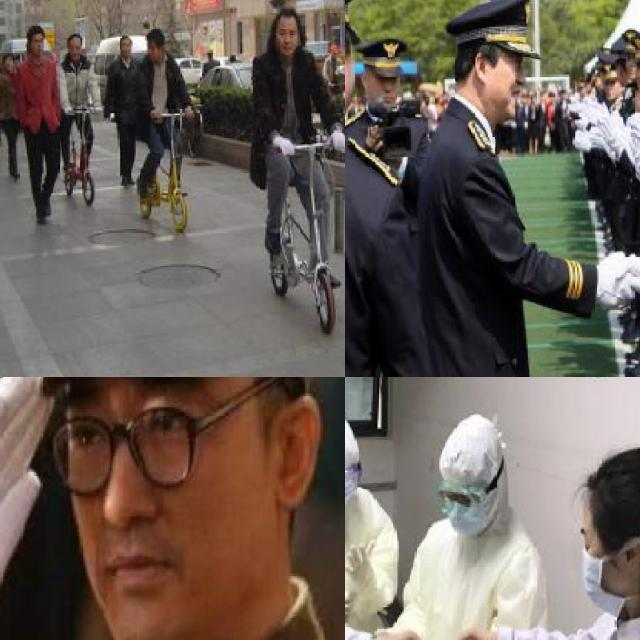No_Ear-Protection: (273, 378, 328, 518), (473, 51, 488, 84)
face_mask: (546, 493, 640, 627)
face_nomask: (58, 377, 271, 640), (476, 51, 534, 120), (368, 68, 398, 107), (274, 23, 300, 58), (144, 40, 166, 60), (29, 35, 46, 60), (67, 41, 85, 58), (119, 38, 133, 58)
glasses: (49, 401, 203, 501), (433, 483, 484, 521), (345, 461, 363, 499)
hand_glove: (0, 377, 62, 637), (594, 248, 640, 306), (345, 538, 379, 584), (599, 113, 626, 150), (623, 125, 640, 171), (586, 100, 611, 120), (573, 130, 600, 148), (272, 134, 294, 154), (328, 128, 345, 153), (345, 589, 357, 623), (631, 108, 640, 152), (574, 101, 588, 128), (92, 103, 104, 115), (64, 104, 74, 115)
hand_noglove: (452, 622, 497, 640), (366, 122, 384, 152), (373, 629, 422, 640), (146, 106, 160, 121), (180, 106, 196, 118), (327, 80, 331, 86)
head_nohelmet: (571, 447, 640, 550), (447, 0, 538, 56), (267, 4, 302, 24), (142, 27, 167, 46), (24, 24, 46, 38), (66, 30, 84, 44), (118, 35, 134, 46)
person: (0, 377, 345, 640), (420, 0, 621, 377), (242, 12, 345, 301), (514, 440, 640, 640), (567, 19, 640, 333), (4, 25, 74, 242), (139, 29, 199, 218), (62, 32, 107, 204), (108, 34, 145, 192)
shoes: (257, 215, 290, 257), (31, 198, 53, 224)
